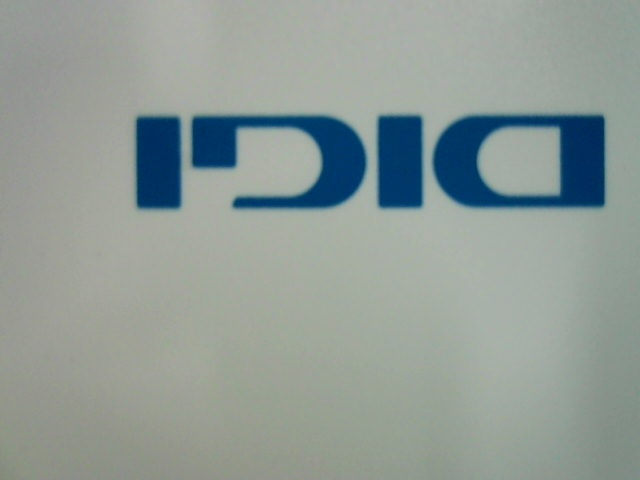BL_DIGI: (120, 96, 615, 215)
